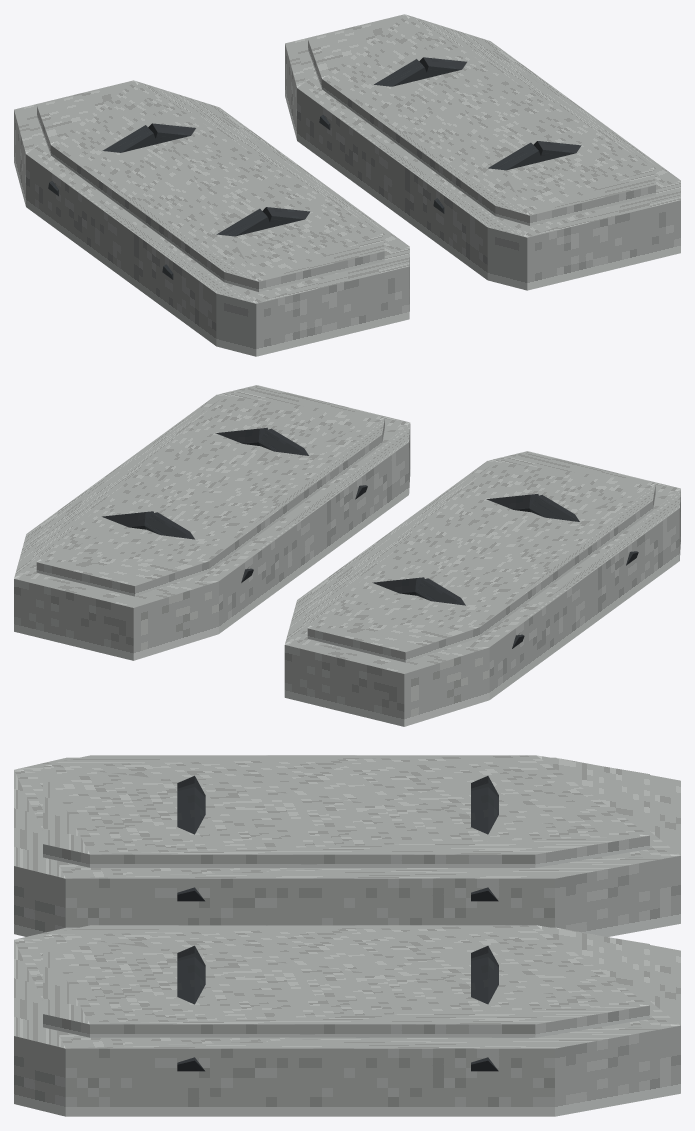
File: armor_riot_arm.glb
3 views of the same model, one above another, from view 1: azimuth 30°, elevation 25°; view 2: azimuth 150°, elevation 25°; view 3: azimuth 270°, elevation 25° (orthographic). The views are drawn at different scales.
Parts seen in each view (by area): view 1: block_raised outer surface (×2), block_shaped protective panel (×2), block_retention strap 0 (×4), block_retention strap 1 (×4); view 2: block_raised outer surface (×2), block_shaped protective panel (×2), block_retention strap 0 (×4), block_retention strap 1 (×4); view 3: block_raised outer surface (×2), block_shaped protective panel (×2), block_retention strap 1 (×4).
Boxes of the visible parts, x1,y1,x2,y2 form: block_raised outer surface (×2): [37, 15, 655, 291]; block_shaped protective panel (×2): [14, 14, 680, 356]; block_retention strap 0 (×4): [48, 59, 542, 279]; block_retention strap 1 (×4): [148, 57, 581, 227]; block_raised outer surface (×2): [36, 386, 655, 662]; block_shaped protective panel (×2): [14, 385, 680, 726]; block_retention strap 0 (×4): [144, 428, 638, 648]; block_retention strap 1 (×4): [102, 427, 538, 595]; block_raised outer surface (×2): [43, 755, 649, 1037]; block_shaped protective panel (×2): [14, 757, 680, 1116]; block_retention strap 1 (×4): [177, 787, 498, 1071].
Size of the model in its own units: 0.4 by 0.0639 by 0.3823.
1 material, 1 textured.
